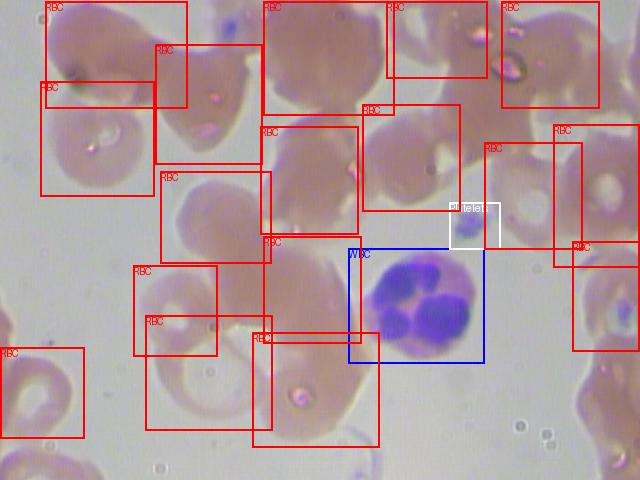Platelets: (449, 202, 500, 249)
RBC: (45, 1, 187, 108), (263, 1, 394, 115), (145, 315, 272, 430), (252, 332, 379, 447), (40, 81, 154, 196), (155, 44, 262, 164), (553, 124, 639, 267), (260, 126, 358, 234), (362, 104, 460, 211), (484, 142, 582, 249), (263, 236, 361, 343), (501, 1, 599, 108), (160, 171, 271, 263), (386, 1, 487, 78), (133, 265, 217, 356), (0, 347, 84, 438), (572, 241, 639, 351)
WBC: (348, 248, 484, 363)
